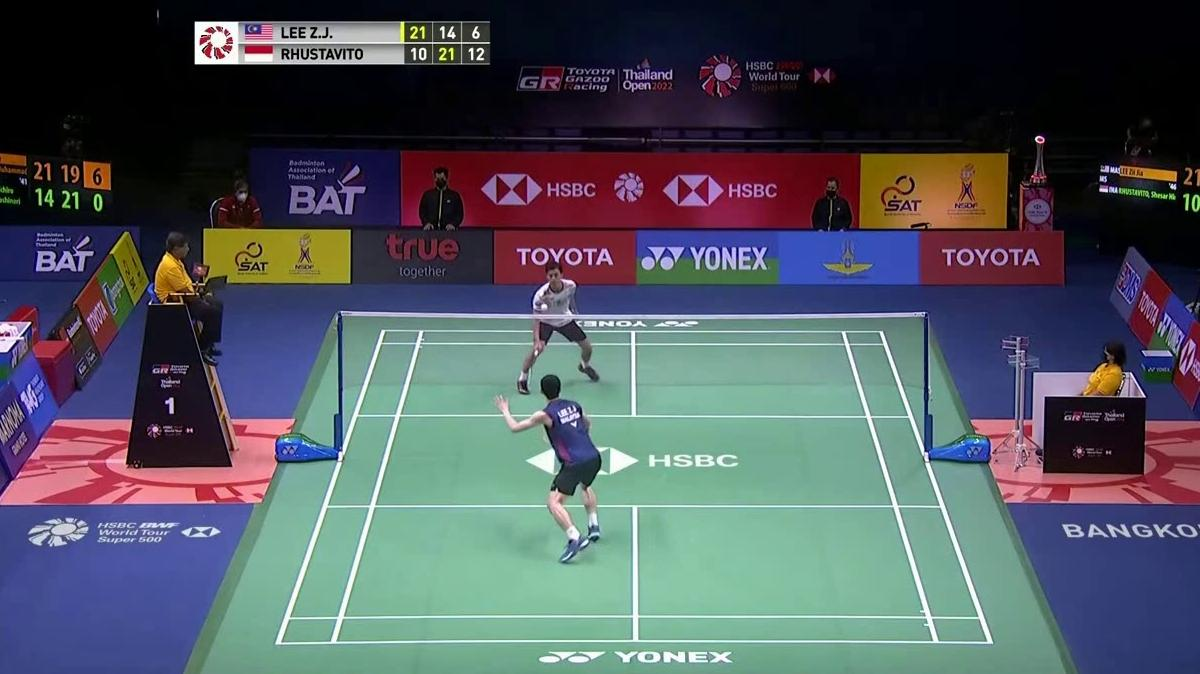racket: (525, 347, 541, 388)
shuttle: (539, 302, 550, 312)
